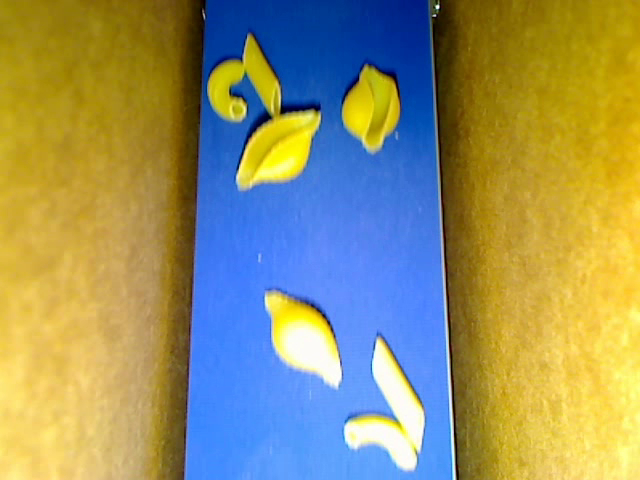elbow: (344, 412, 417, 470), (207, 58, 246, 122)
penne: (371, 334, 425, 453), (242, 33, 280, 118)
shell: (263, 289, 343, 389), (234, 108, 320, 190), (341, 63, 400, 155)
